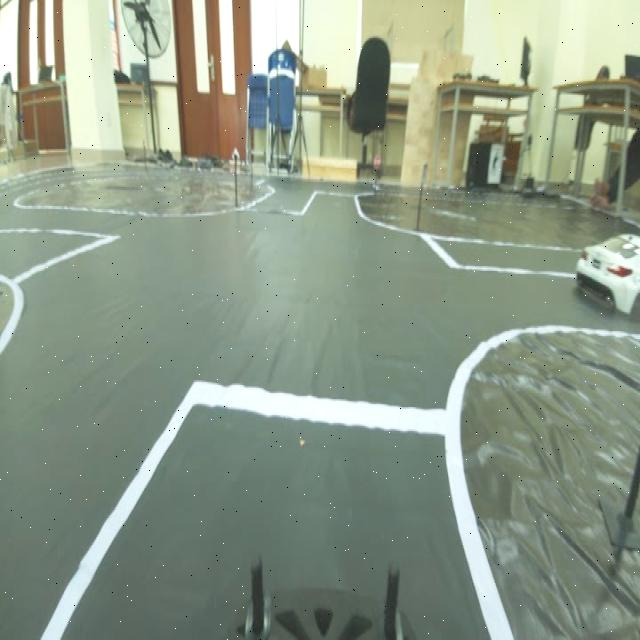car: (574, 214, 640, 314)
